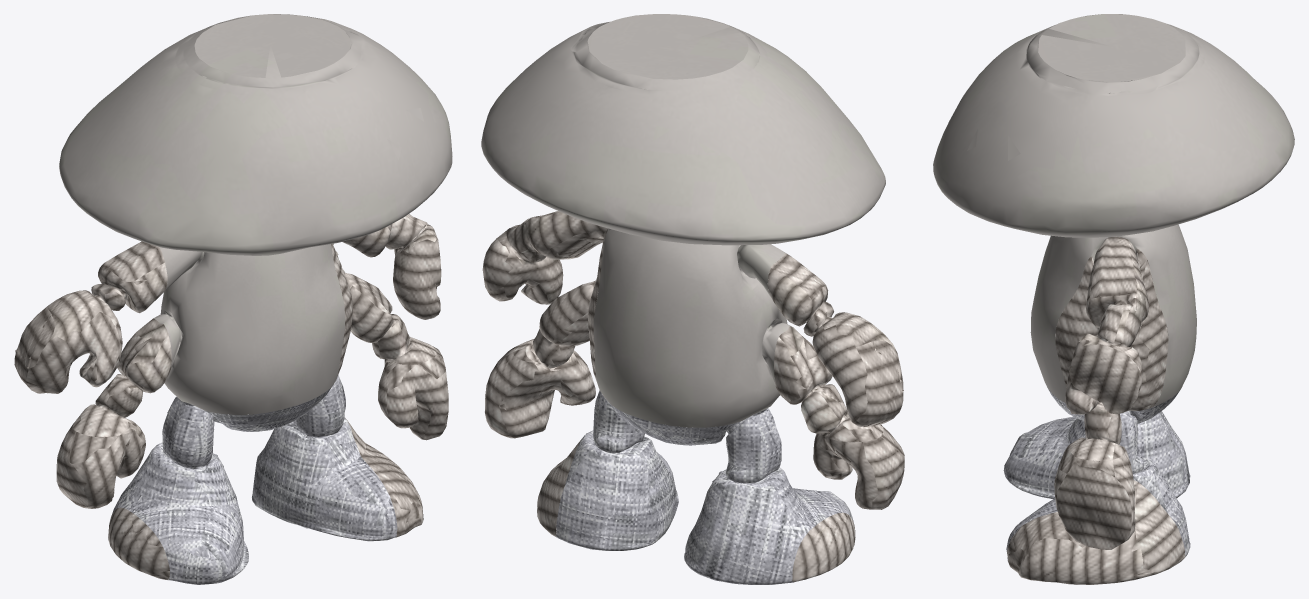
Rendered from 17-shellcap-manyarm--mushroom_robot_3d_model.glb.
3 views of the same model, side by side, from view 1: azimuth 30°, elevation 25°; view 2: azimuth 150°, elevation 25°; view 3: azimuth 270°, elevation 25° (orthographic). The views are drawn at different scales.
Parts seen in each view (by area): view 1: head_mesh, arms_mesh, feet_mesh, body_mesh; view 2: head_mesh, arms_mesh, body_mesh, feet_mesh; view 3: head_mesh, arms_mesh, body_mesh, feet_mesh.
Boxes of the visible parts, x1,y1,x2,y2 form: head_mesh: (59, 14, 452, 255); arms_mesh: (14, 214, 448, 579); feet_mesh: (111, 375, 397, 584); body_mesh: (153, 244, 345, 414); head_mesh: (481, 14, 885, 245); arms_mesh: (482, 211, 904, 582); body_mesh: (593, 228, 791, 427); feet_mesh: (556, 390, 853, 584); head_mesh: (933, 14, 1294, 237); arms_mesh: (1007, 236, 1185, 584); body_mesh: (1030, 224, 1196, 406); feet_mesh: (1003, 382, 1190, 560).
Bounding box in the file's own units: 2.67 × 3 × 2.04.
Materials: 4 (4 with a texture image).
